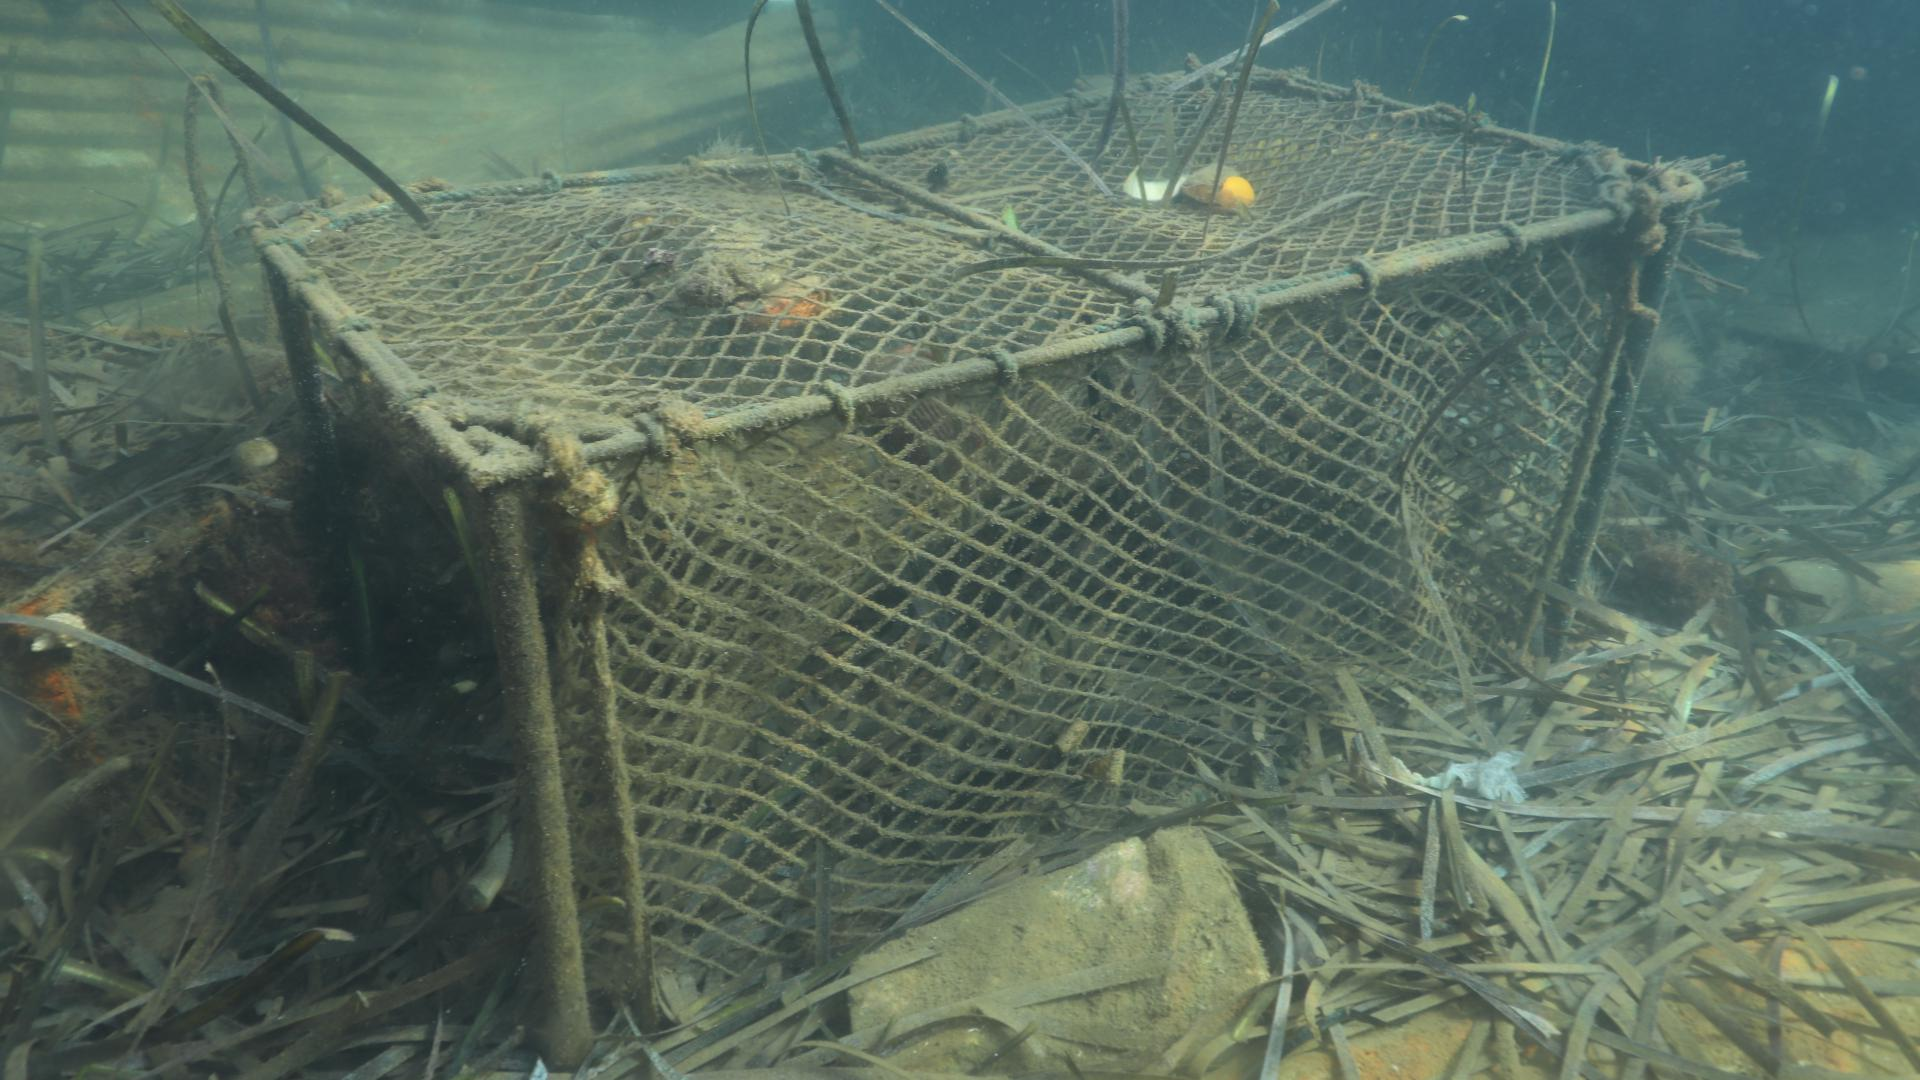rectangular fish trap: (241, 58, 1701, 1068)
